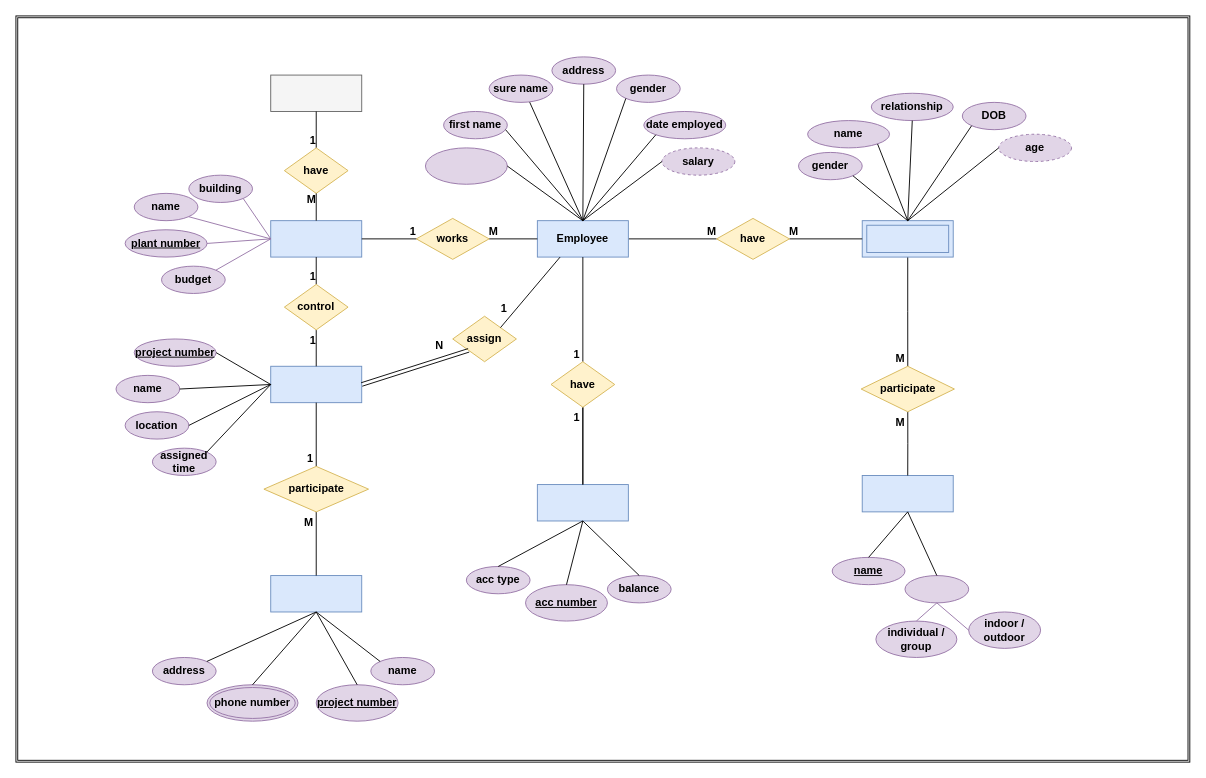
The diagram is 1206 pixels wide and 778 high, and some of its shapes have lost their labels. Here are the shapes that lost their labels. From the top down, the centre of each, then its label:
At (316,92): "Premadasa Company".
At (466,165): "employee number".
At (316,238): "Plants".
At (907,238): "Dependent".
At (316,384): "Projects".
At (582,502): "PCU Account".
At (907,493): "Hobby".
At (316,593): "Vendor".
At (936,589): "code".
